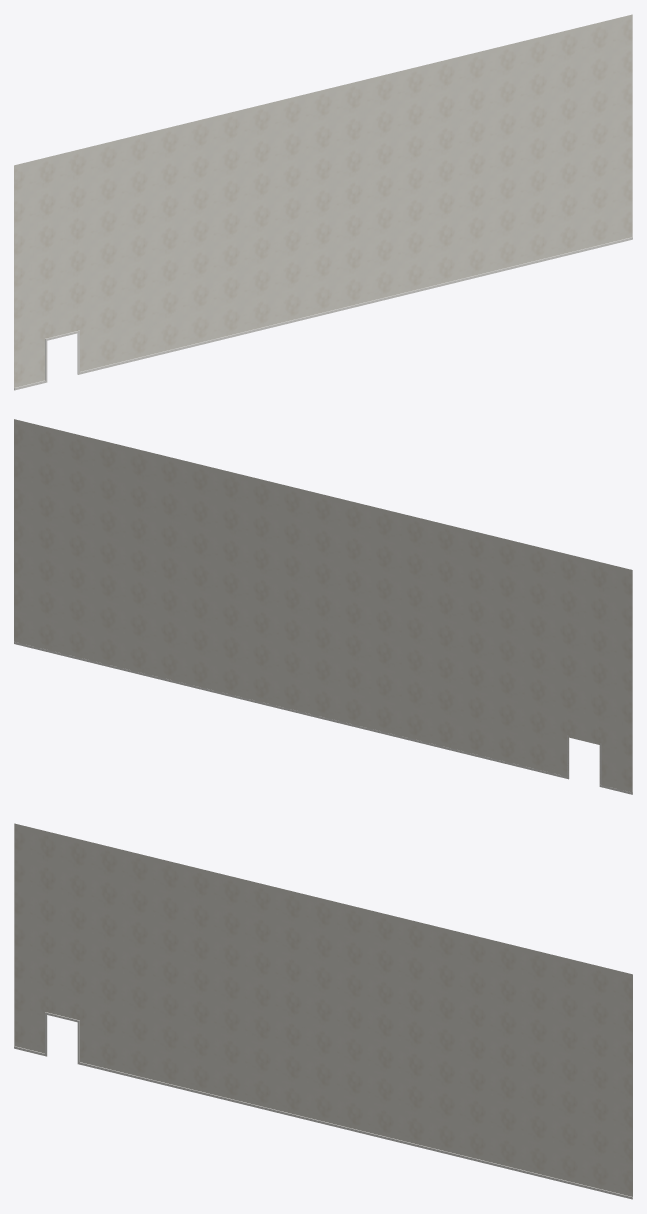
3 renders of one model, top to bottom at view 1: azimuth 30°, elevation 25°; view 2: azimuth 150°, elevation 25°; view 3: azimuth 330°, elevation 25°, orthographic.
Visible parts, largest first — view 1: jx_wm_40_5053ac93; view 2: jx_wm_40_5053ac93; view 3: jx_wm_40_5053ac93.
Part boxes in pixels (left/top/right/bottom): jx_wm_40_5053ac93: left=14, top=14, right=632, bottom=390; jx_wm_40_5053ac93: left=14, top=419, right=632, bottom=794; jx_wm_40_5053ac93: left=14, top=823, right=632, bottom=1199.
Size of the model in its own units: 40.3 by 14 by 0.05.
Materials: 2 (2 with a texture image).
